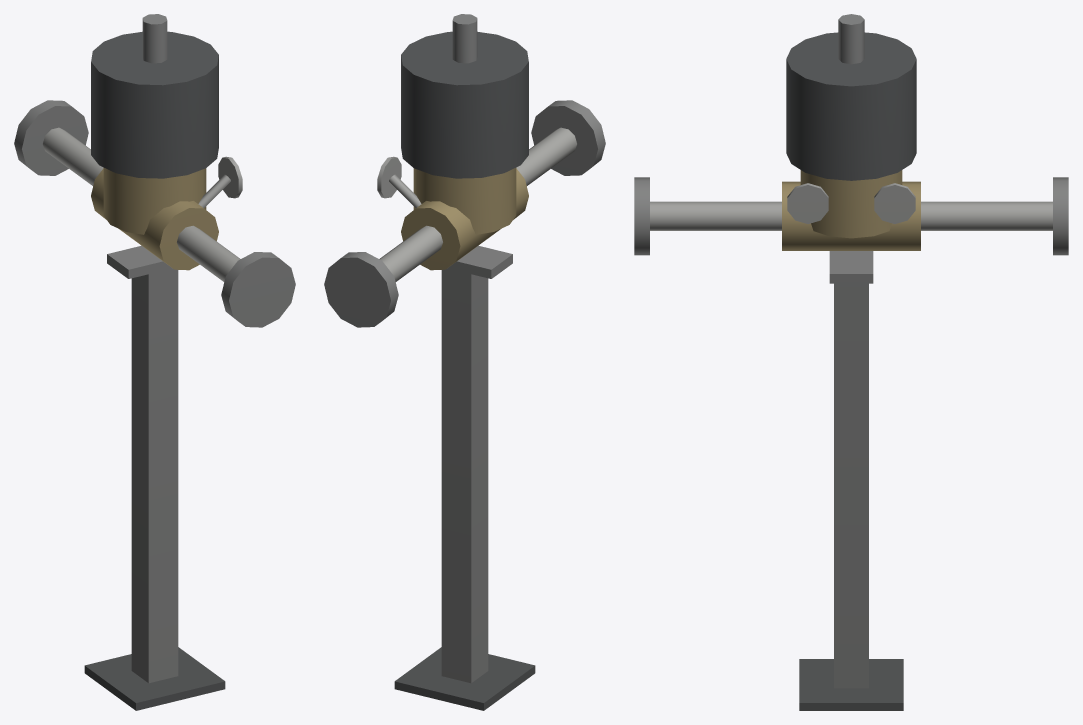
The model's file is flReg_steel.glb.
3 renders of one model, left to right at view 1: azimuth 30°, elevation 25°; view 2: azimuth 150°, elevation 25°; view 3: azimuth 270°, elevation 25°, orthographic.
Visible parts, largest first — view 1: flReg_steel; view 2: flReg_steel; view 3: flReg_steel.
Part boxes in pixels (x1,y1,x2,y2): flReg_steel: (14,14,295,710); flReg_steel: (324,14,605,710); flReg_steel: (634,14,1068,710).
Bounding box in the file's own units: 0.15 × 0.85 × 0.5.
